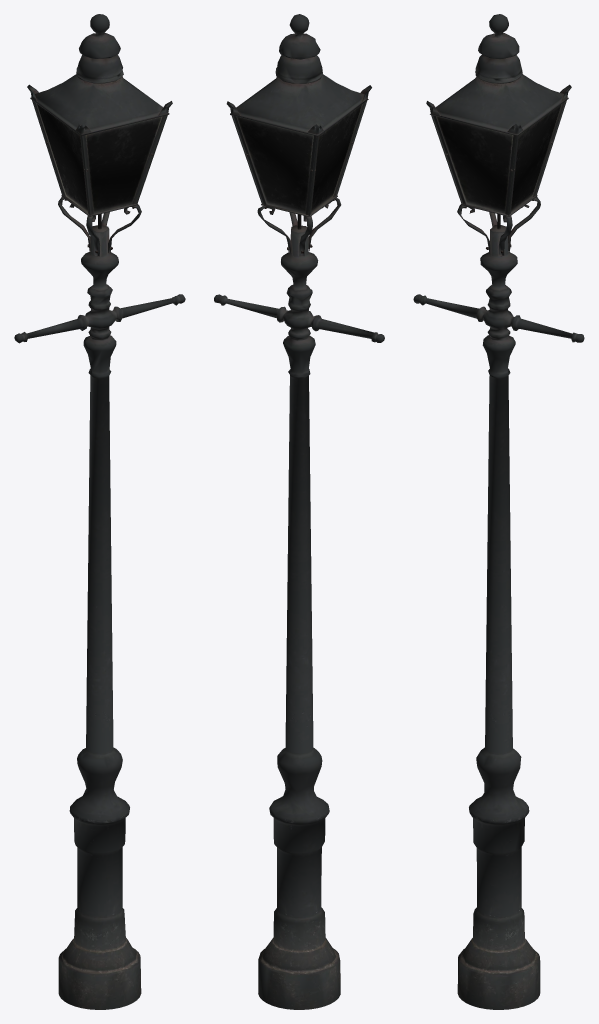
Rendered from street_lamp_01.glb.
The picture shows the model from 3 angles, left to right: view 1: azimuth 30°, elevation 25°; view 2: azimuth 150°, elevation 25°; view 3: azimuth 330°, elevation 25°; orthographic projection.
Parts seen in each view (by area): view 1: street_lamp_01; view 2: street_lamp_01; view 3: street_lamp_01.
Part boxes in pixels (x1,y1,x2,y2): street_lamp_01: (14,14,185,1009); street_lamp_01: (214,14,384,1009); street_lamp_01: (413,14,584,1009).
Size of the model in its own units: 0.7022 by 3.87 by 0.3862.
2 materials, 2 textured.
